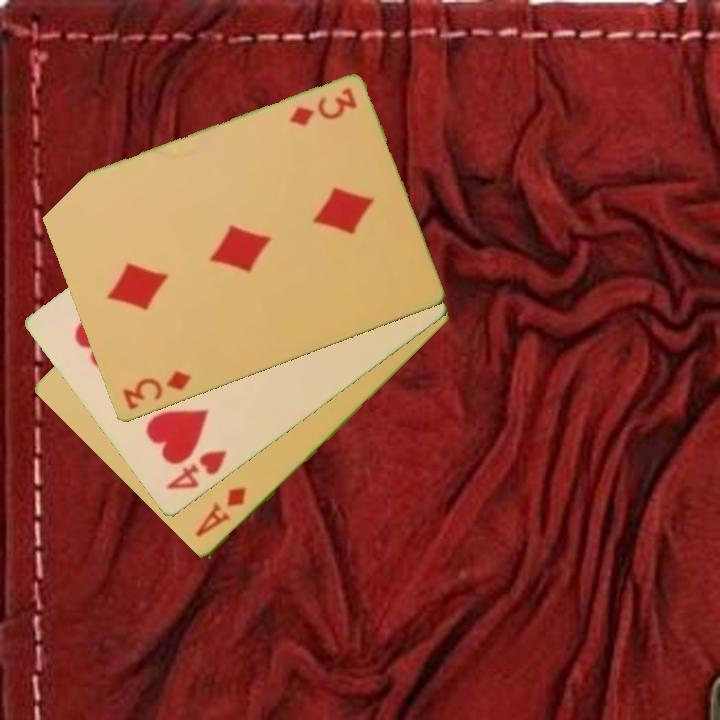3d: (119, 368, 194, 414), (286, 85, 360, 130)
4h: (163, 447, 230, 494)
Ad: (191, 484, 249, 541)
